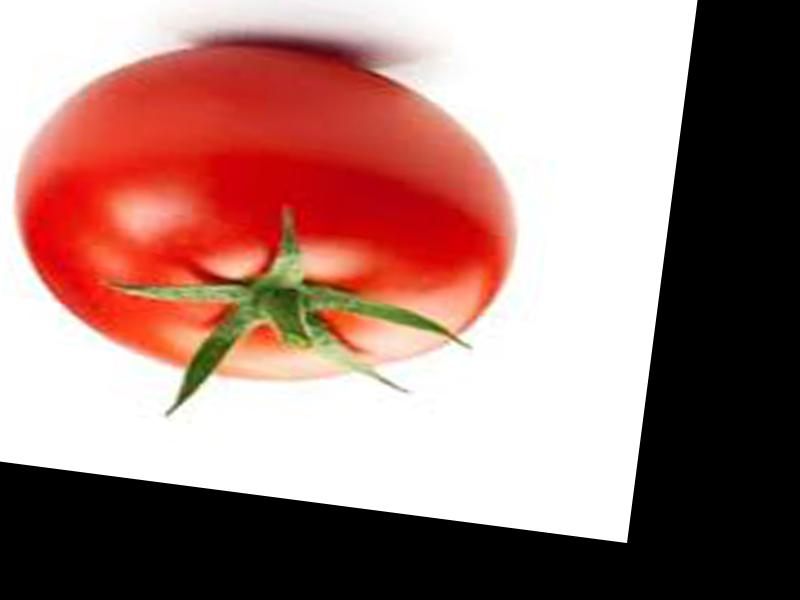Tomato: (2, 15, 530, 410)
